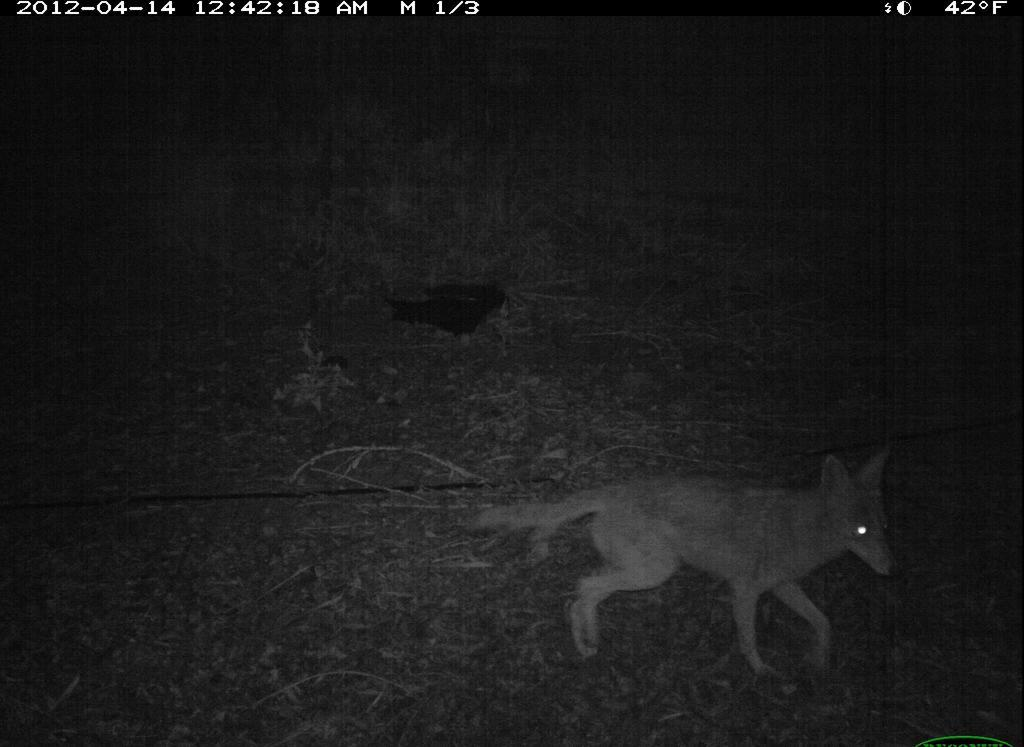coyote: (451, 440, 926, 696)
